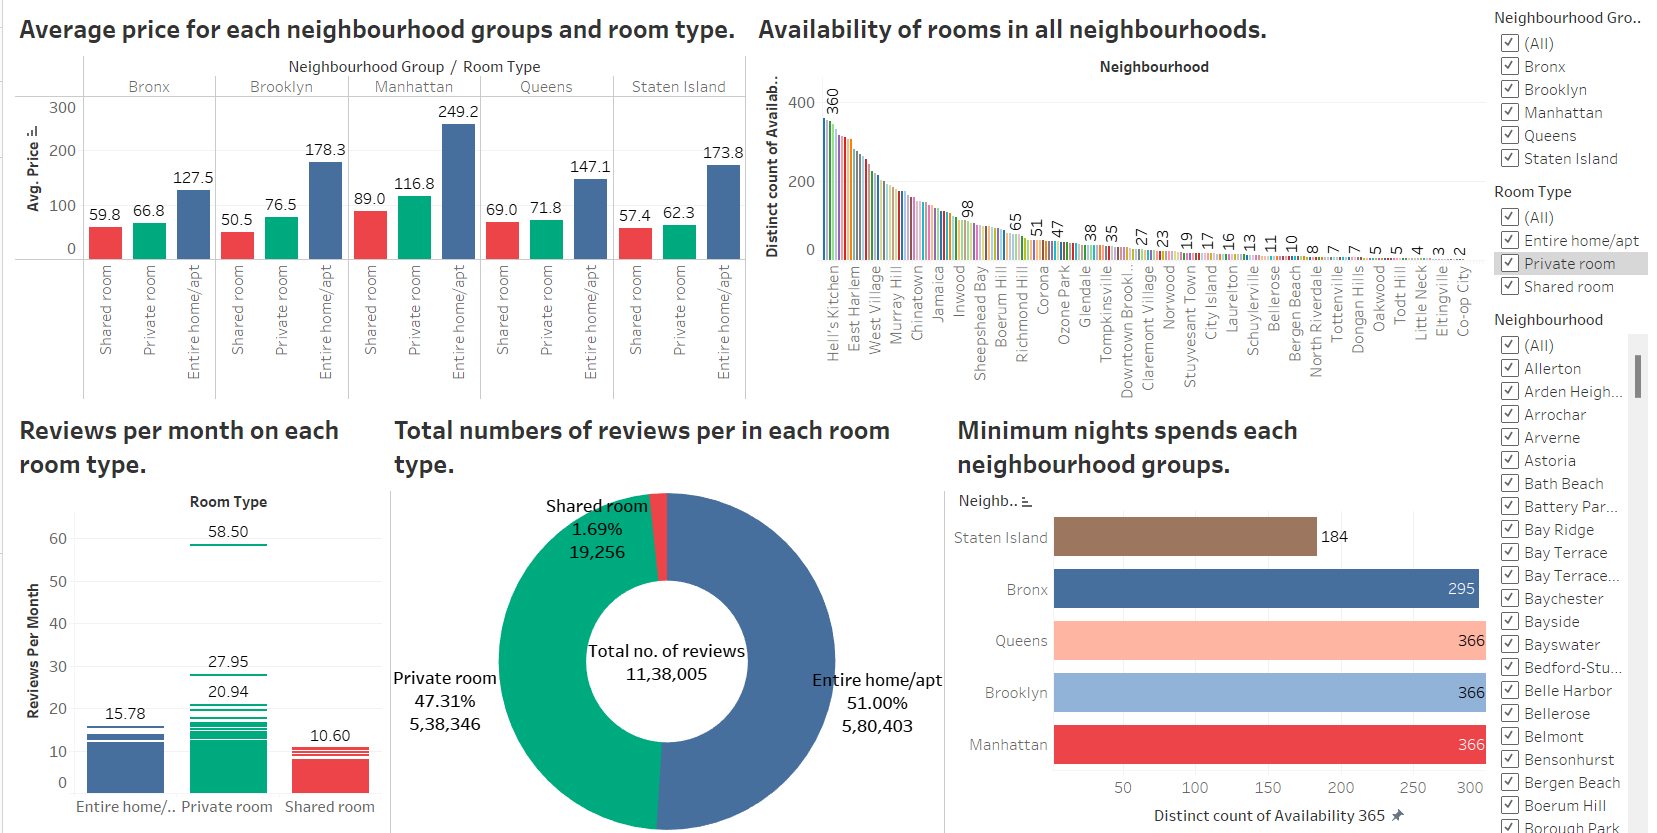

The dashboard page shown, as its layout file describes it:
{"tool":"tableau","page":{"name":"Dashboard 1","canvas":[1000,1000],"units":"permille","ordinal":0},"visuals":[{"type":"worksheet","title":"Sheet 3","mark":"Automatic","rows":["price"],"cols":["neighbourhood_group","room_type"],"box":[4.7,9.4,447.8,490.6]},{"type":"worksheet","title":"Sheet 4","mark":"Automatic","rows":["availability_365"],"cols":["neighbourhood"],"box":[452.5,9.4,447.9,490.6]},{"type":"filter","title":"Sheet 1","param":"[federated.0sv28zk141z4lk15fa9z80syzuxm].[none:neighbourhood_group:nk]","box":[900.4,9.4,94.9,204.7]},{"type":"filter","title":"Sheet 2","param":"[federated.0sv28zk141z4lk15fa9z80syzuxm].[none:room_type:nk]","box":[900.4,214.1,94.9,150.6]},{"type":"filter","title":"Sheet 4","param":"[federated.0sv28zk141z4lk15fa9z80syzuxm].[none:neighbourhood:nk]","box":[900.4,364.7,94.9,625.9]},{"type":"worksheet","title":"Sheet 5","mark":"Automatic","rows":["reviews_per_month"],"cols":["room_type"],"box":[4.7,500,227.3,490.6]},{"type":"worksheet","title":"Sheet 2","mark":"Pie","rows":["Calculation_1563874973222576140","Calculation_1563874973222604814"],"box":[232,500,345.7,490.6]},{"type":"worksheet","title":"Sheet 1","mark":"Automatic","rows":["neighbourhood_group"],"cols":["availability_365"],"box":[577.6,500,322.8,490.6]}]}

Visuals, with their boxes on the dashboard's canvas, which has no fixed pixel size, in thousandths of its width and height (x1, y1, x2, y2). These are canvas units, not pixel positions in the 1657x833 screenshot, which may show the page scaled, cropped or inside an application window:
"Sheet 3" worksheet: 5, 9, 452, 500
"Sheet 4" worksheet: 452, 9, 900, 500
"Sheet 1" filter: 900, 9, 995, 214
"Sheet 2" filter: 900, 214, 995, 365
"Sheet 4" filter: 900, 365, 995, 991
"Sheet 5" worksheet: 5, 500, 232, 991
"Sheet 2" worksheet (Pie marks): 232, 500, 578, 991
"Sheet 1" worksheet: 578, 500, 900, 991
